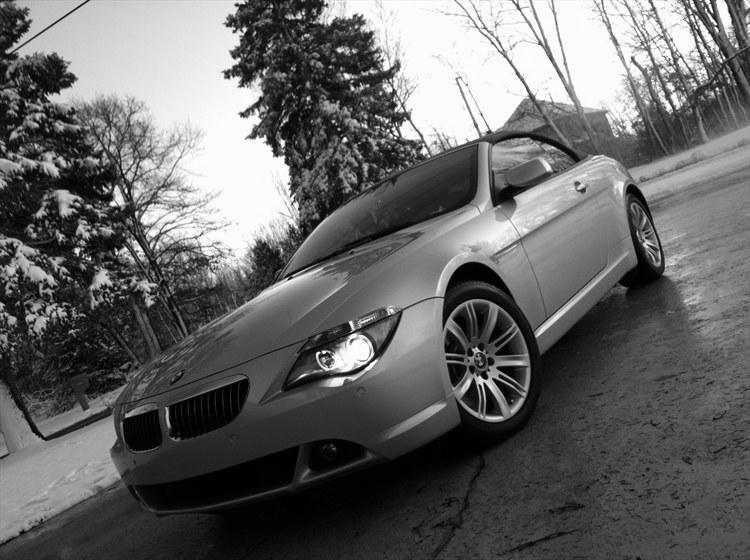car: (105, 127, 672, 527)
